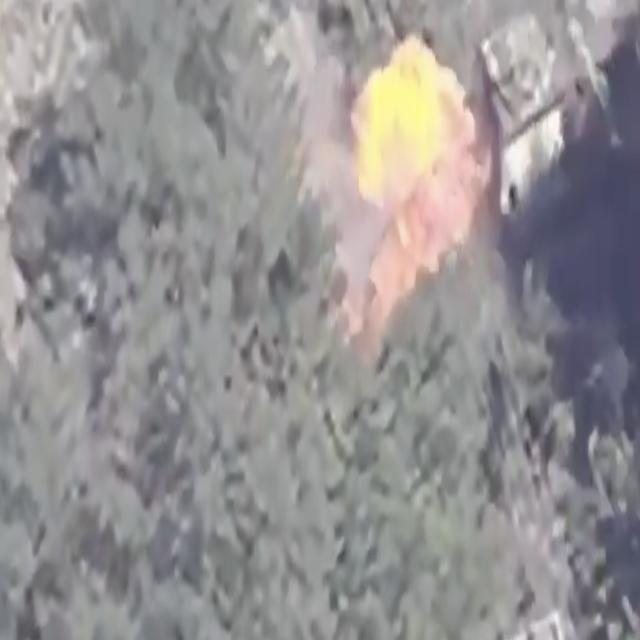vehicle: (476, 340, 536, 516)
